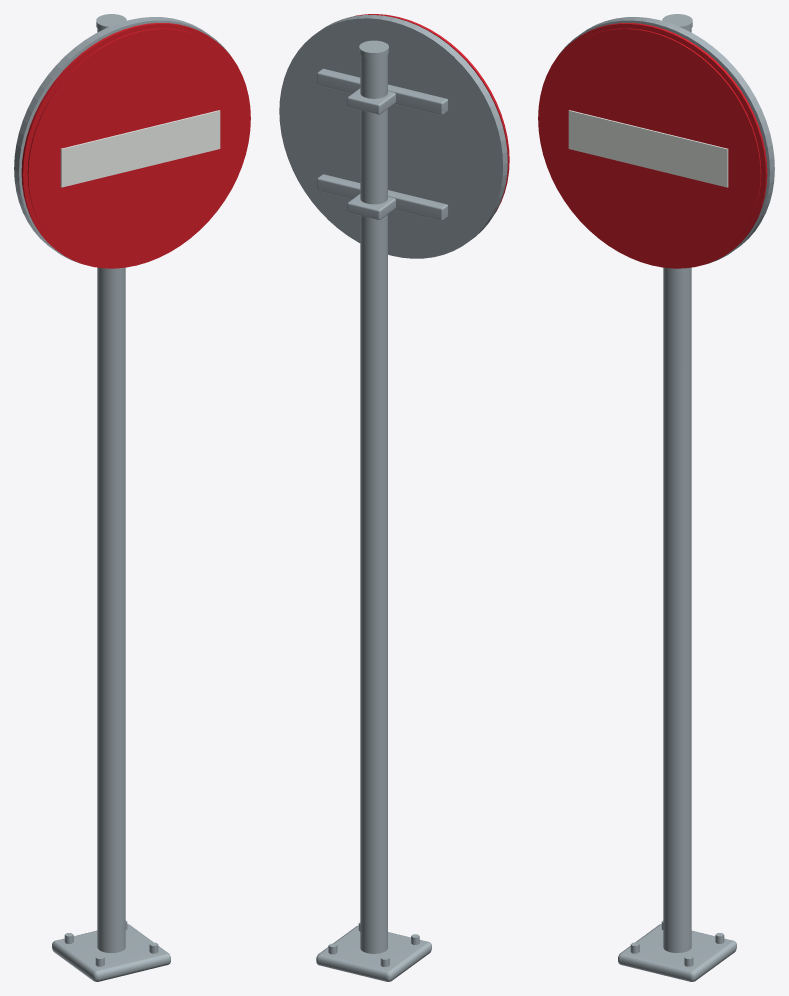
The model's file is DS_Sign_NoEntry.glb.
The picture shows the model from 3 angles, left to right: view 1: azimuth 30°, elevation 25°; view 2: azimuth 150°, elevation 25°; view 3: azimuth 330°, elevation 25°; orthographic projection. The views are drawn at different scales.
Visible parts, largest first — view 1: Face_Field.006, Post.006, NoEntryBar, BasePlate.006, Face_Border.006, Plate_Back.006; view 2: Plate_Back.006, Post.006, BasePlate.006, RearRail.013, RearRail.012, PostClamp.013, PostClamp.012, Face_Border.006; view 3: Face_Field.006, Post.006, NoEntryBar, BasePlate.006, Face_Border.006, Plate_Back.006.
Boxes of the visible parts, box(x1,y1,x2,y2) form: Face_Field.006: box(27, 28, 249, 266); Post.006: box(97, 28, 125, 952); NoEntryBar: box(60, 110, 220, 187); BasePlate.006: box(52, 924, 170, 981); Face_Border.006: box(21, 23, 250, 268); Plate_Back.006: box(14, 17, 230, 263); Plate_Back.006: box(279, 15, 507, 258); Post.006: box(360, 55, 387, 953); BasePlate.006: box(316, 925, 431, 981); RearRail.013: box(317, 68, 448, 115); RearRail.012: box(317, 174, 448, 220); PostClamp.013: box(347, 88, 395, 114); PostClamp.012: box(347, 194, 395, 219); Face_Border.006: box(354, 14, 509, 212); Face_Field.006: box(539, 28, 761, 266); Post.006: box(663, 28, 691, 952); NoEntryBar: box(568, 110, 728, 187); BasePlate.006: box(618, 924, 736, 981); Face_Border.006: box(538, 23, 767, 268); Plate_Back.006: box(558, 17, 774, 263).
Bounding box in the file's own units: 0.71 × 2.81 × 0.277.
